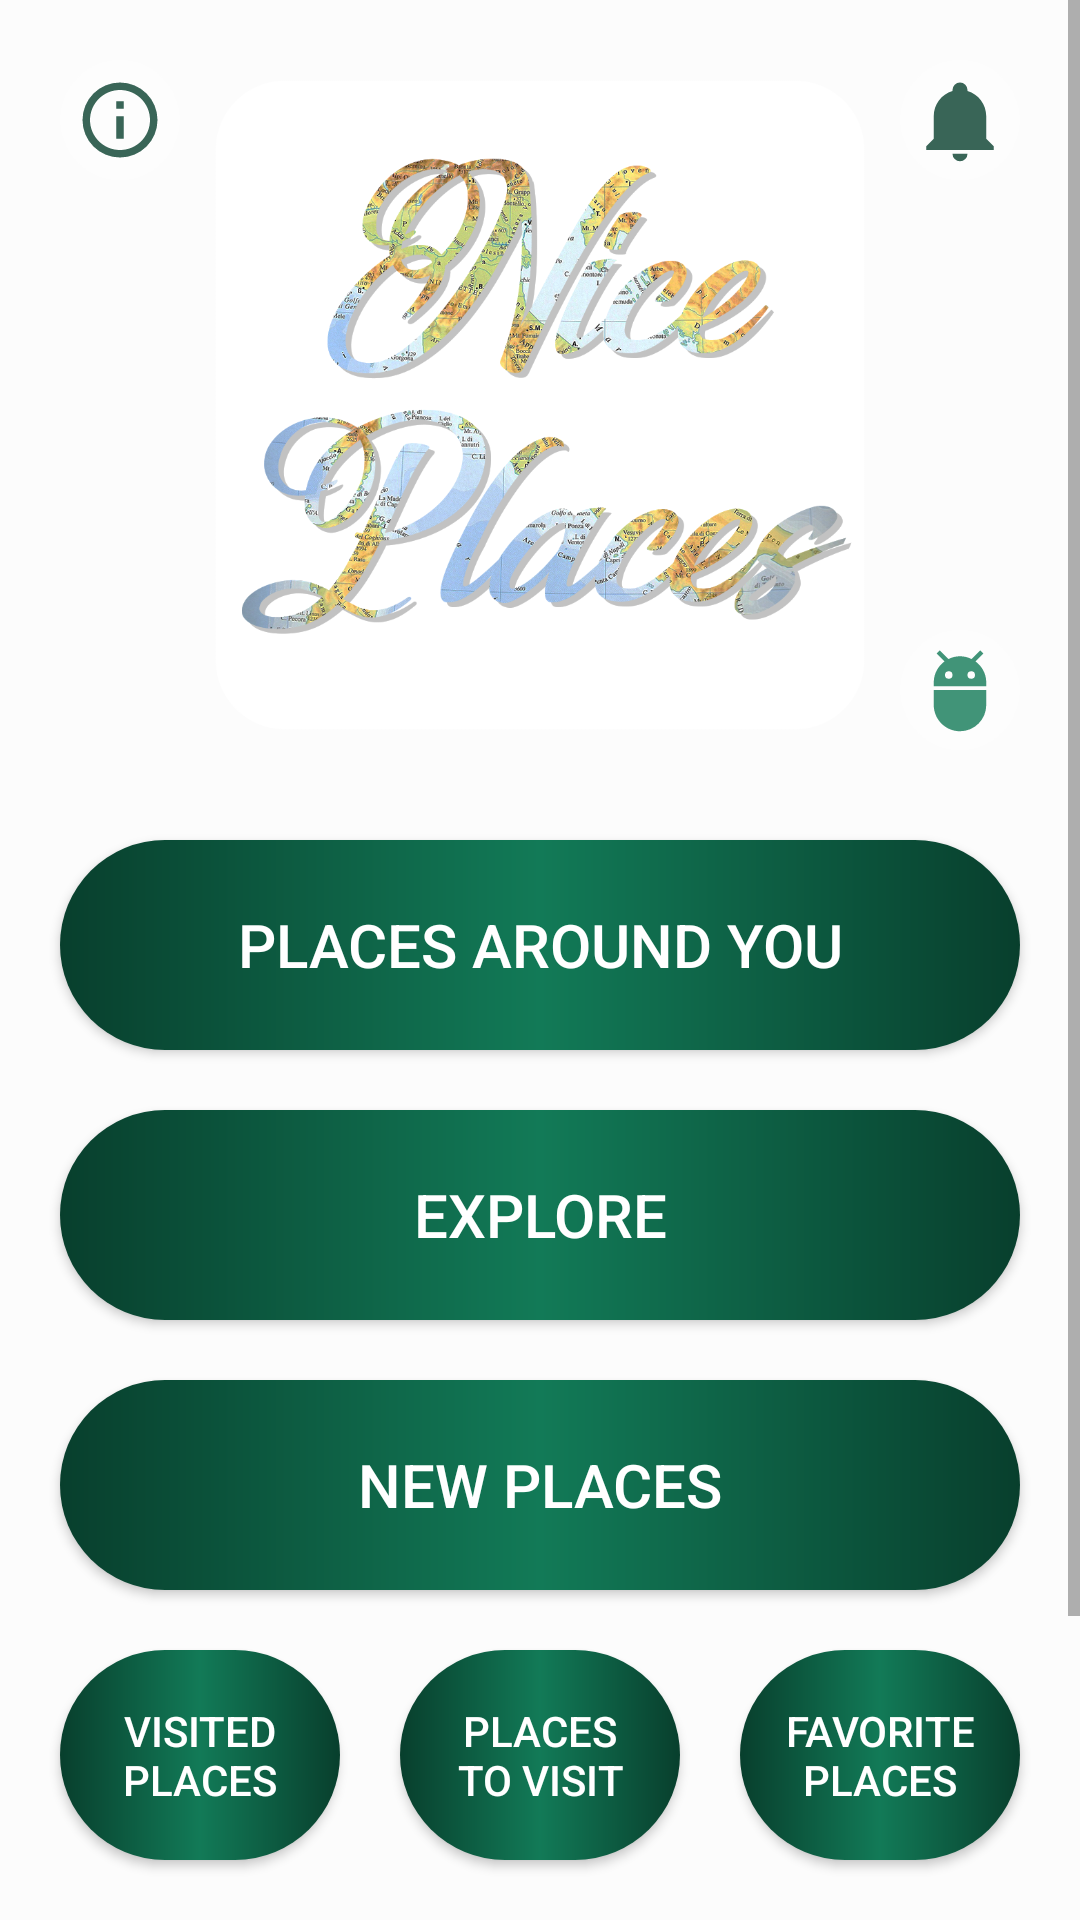

Icon bounding boxes for this 1080w x 1920h phone screenshot, format Rect(x1, y1, x2, y2):
bell: Rect(926, 82, 994, 162)
info: Rect(82, 82, 158, 158)
